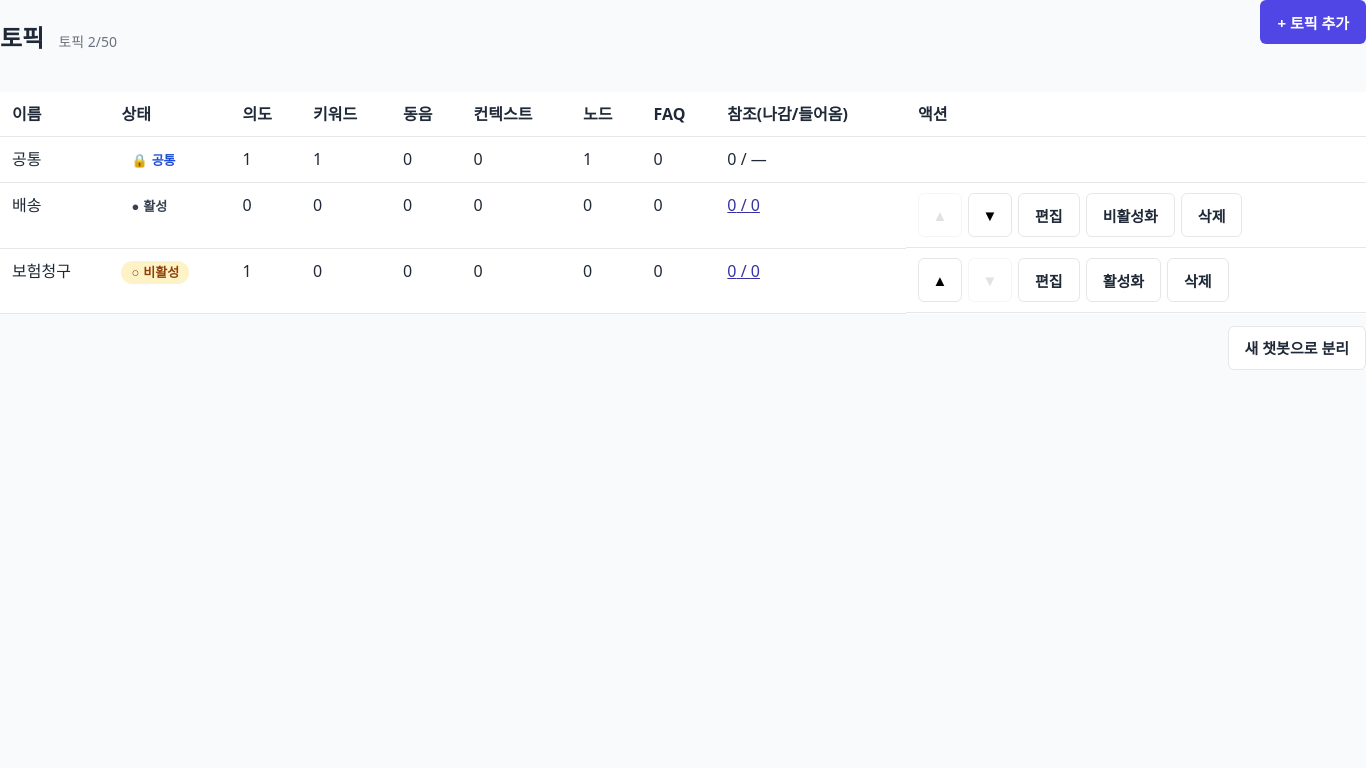
Test: TopicsPage(TP0) › 삭제 중 409 TOPIC_NOT_EMPTY가 다시 오면 목록을 재조회해 대화상자의 건수를 최신화한다
expect the text "보험청구" is shown: met, box [0,248,109,313]
Click the button "삭제" in the row of "보험청구". click: (1198, 280)
box: [1167,258,1229,302]
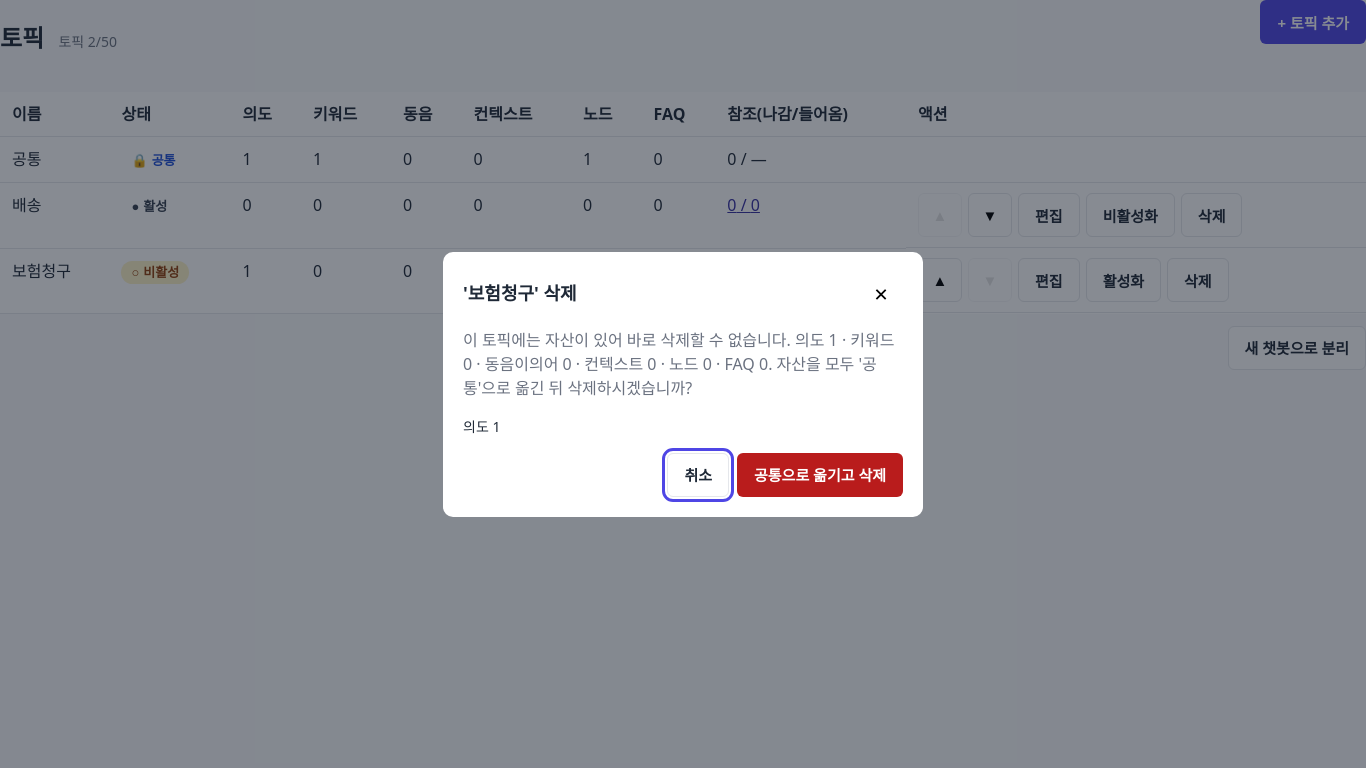
expect the button "공통으로 옮기고 삭제" is shown: met
expect the list item "의도 1" is shown: met, box [463,416,500,436]
Click the button "공통으로 옮기고 삭제". click: (820, 474)
box: [737,452,903,496]
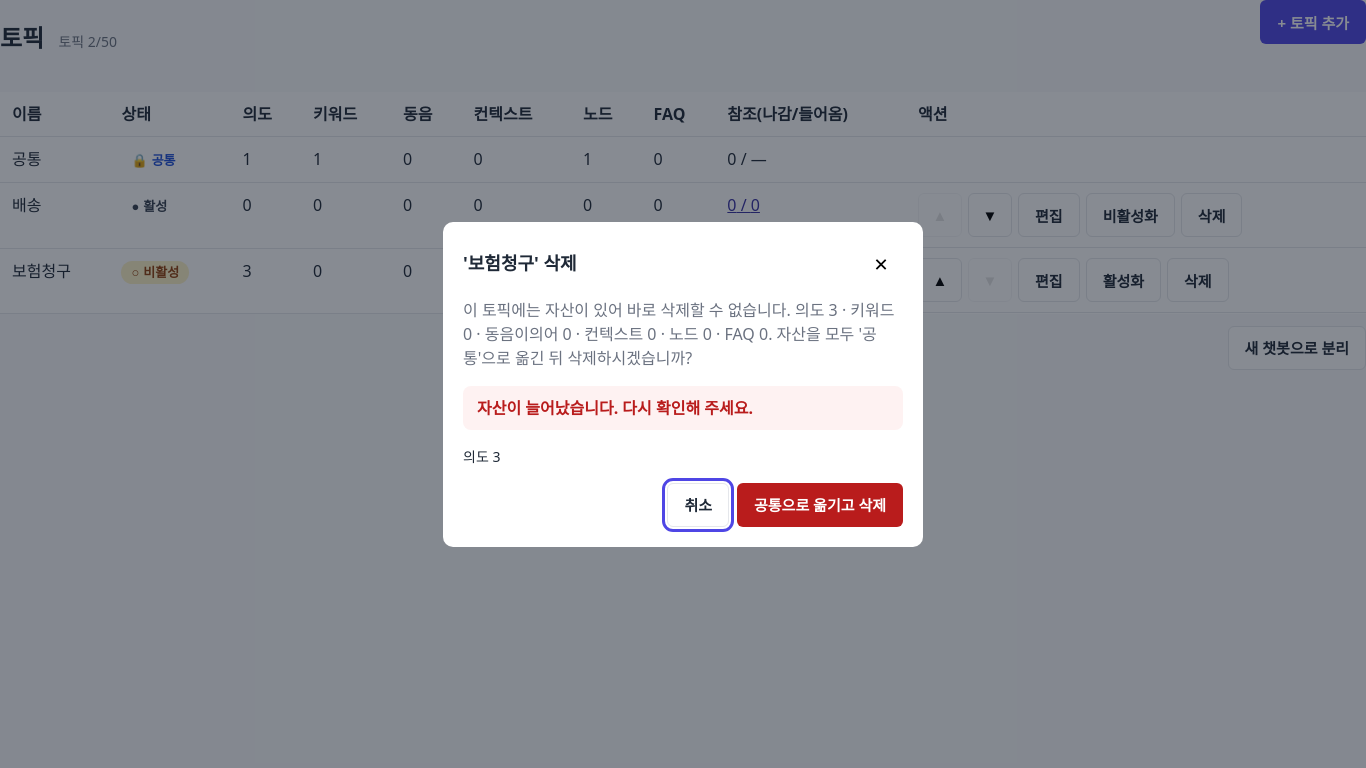
expect the text "자산이 늘어났습니다. 다시 확인해 주세요." is shown: met, box [463,386,903,430]
expect the list item "의도 3" is shown: met, box [463,446,500,466]
